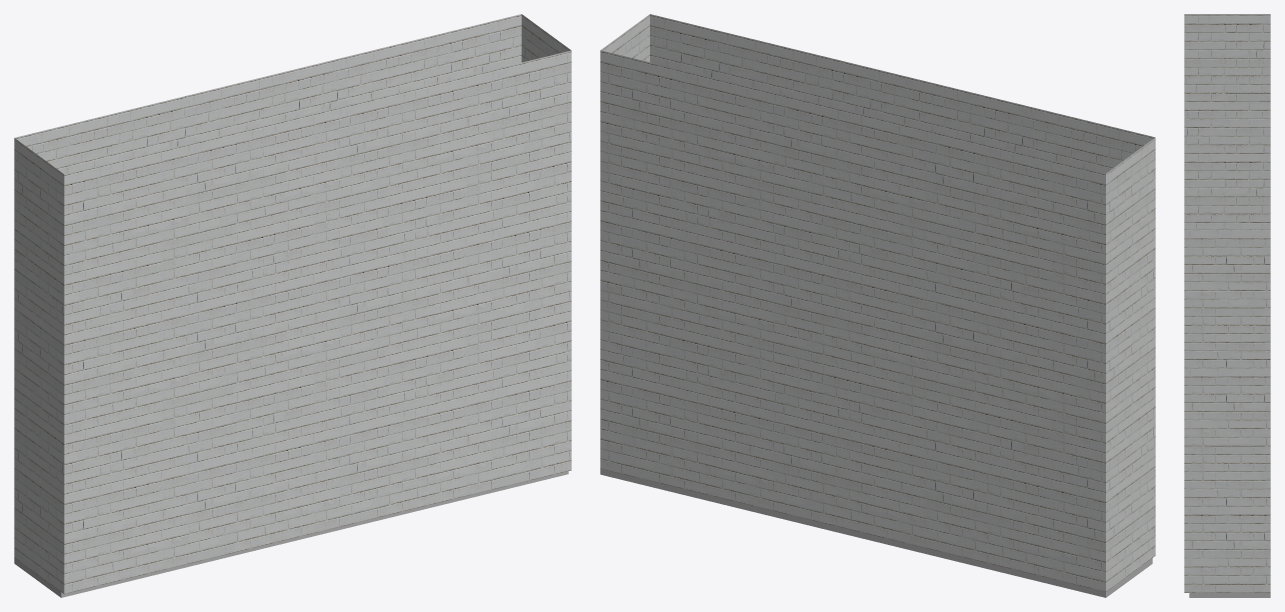
3 views of the same model, side by side, from view 1: azimuth 30°, elevation 25°; view 2: azimuth 150°, elevation 25°; view 3: azimuth 270°, elevation 25° (orthographic). The views are drawn at different scales.
Parts seen in each view (by area): view 1: M_W_014_a_10x8; view 2: M_W_014_a_10x8; view 3: M_W_014_a_10x8.
Part boxes in pixels (x1,y1,x2,y2): M_W_014_a_10x8: (14, 14, 571, 597); M_W_014_a_10x8: (600, 14, 1155, 597); M_W_014_a_10x8: (1184, 14, 1270, 597).
Size of the model in its own units: 10 by 8.02 by 1.7.
